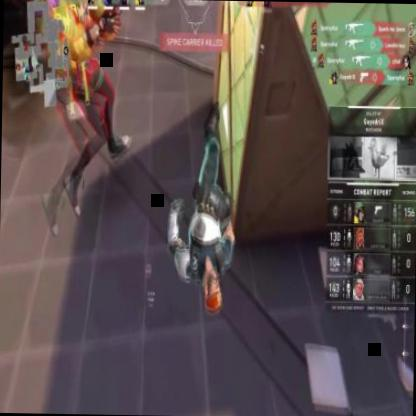enemy: (48, 0, 131, 223)
